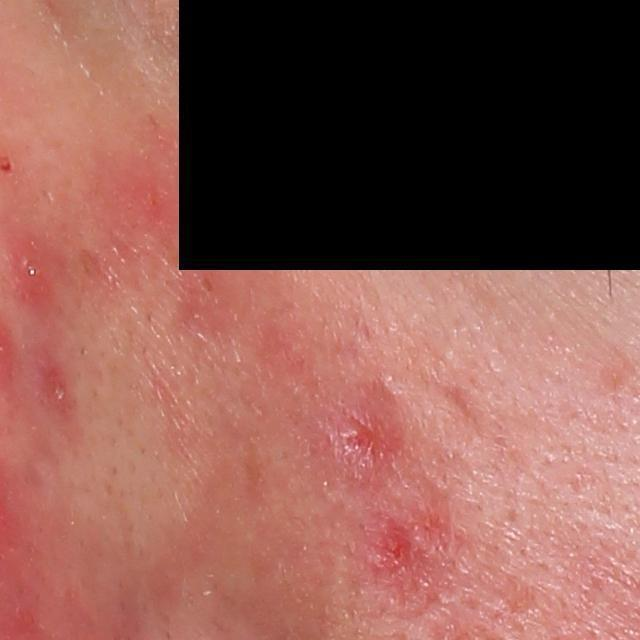papule: (326, 404, 401, 476), (360, 516, 418, 580), (9, 230, 55, 304)
